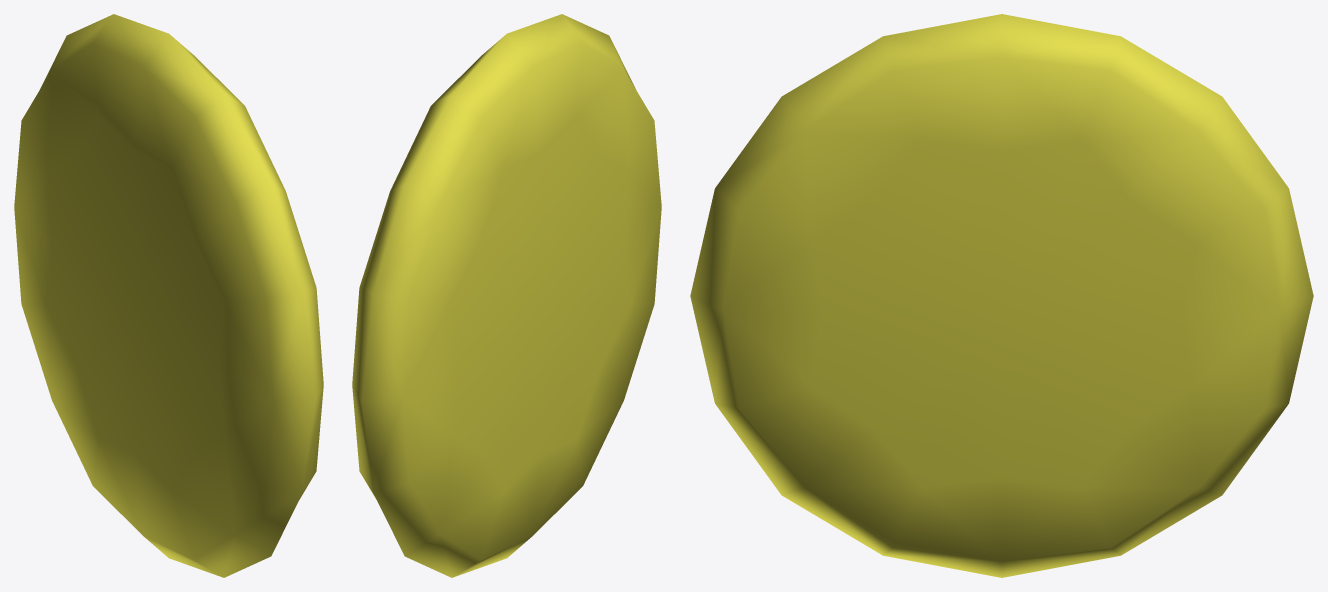
Rendered from coin.fbx.
3 views of the same model, side by side, from view 1: azimuth 30°, elevation 25°; view 2: azimuth 150°, elevation 25°; view 3: azimuth 270°, elevation 25° (orthographic). The views are drawn at different scales.
Parts seen in each view (by area): view 1: Cylinder.001; view 2: Cylinder.001; view 3: Cylinder.001.
Part boxes in pixels (x1,y1,x2,y2): Cylinder.001: [14, 14, 323, 577]; Cylinder.001: [352, 14, 661, 577]; Cylinder.001: [690, 14, 1313, 577].
Bounding box in the file's own units: 0.4992 × 3.7 × 3.71.
